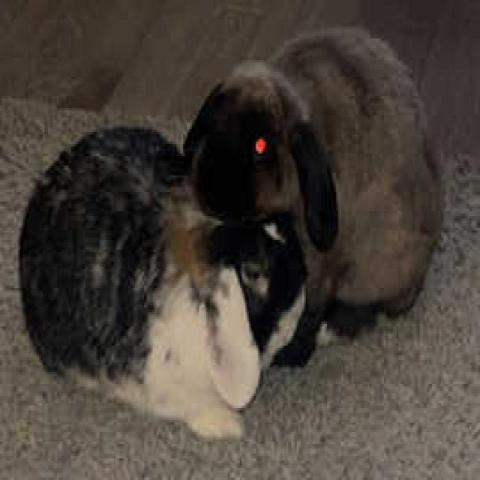small_animal: (13, 119, 309, 440), (178, 27, 444, 372)
